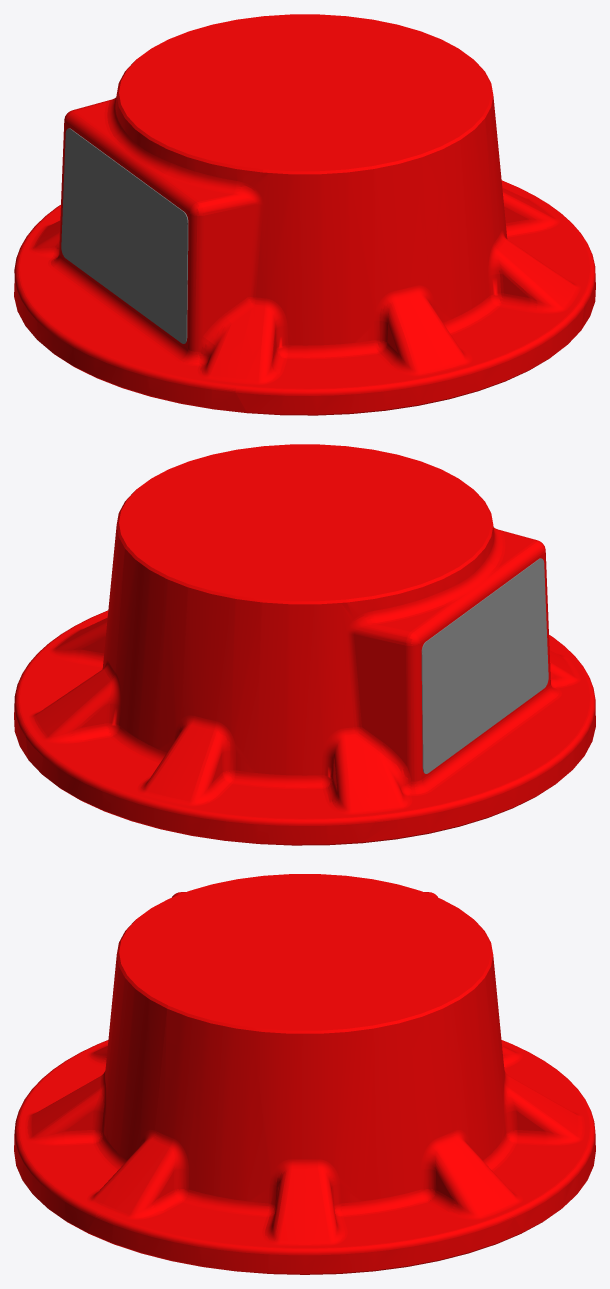
3 views of the same model, one above another, from view 1: azimuth 30°, elevation 25°; view 2: azimuth 150°, elevation 25°; view 3: azimuth 270°, elevation 25° (orthographic).
Parts seen in each view (by area): view 1: _3DGeom_171, _3DGeom_172; view 2: _3DGeom_171, _3DGeom_172; view 3: _3DGeom_171.
Part boxes in pixels (box(x1,y1,x2,y2)): _3DGeom_171: box(14, 14, 595, 415); _3DGeom_172: box(61, 128, 188, 343); _3DGeom_171: box(14, 444, 595, 845); _3DGeom_172: box(421, 558, 548, 773); _3DGeom_171: box(14, 874, 595, 1274).
Bounding box in the file's own units: 0.2105 × 0.2105 × 0.08.
